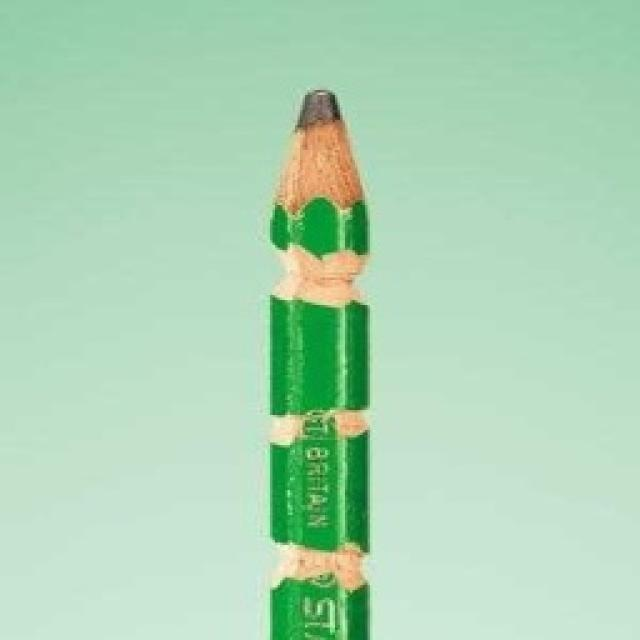pencil: (258, 85, 378, 637)
